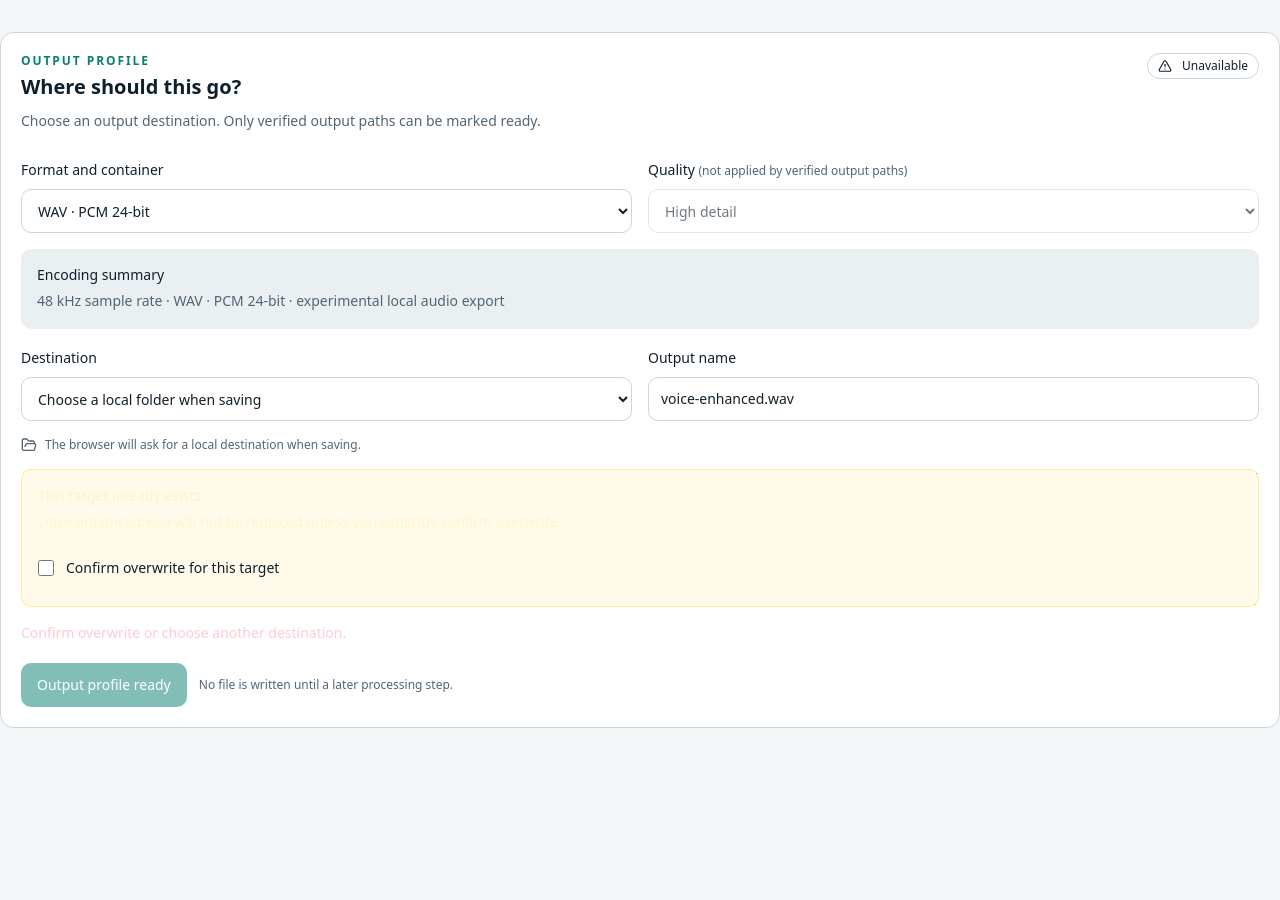
Test case: output profile panel › blocks an existing target until overwrite is explicitly confirmed
This screenshot has width=1280, height=900.
Expected: the message that starts with "This target already exists" shows "voice-enhanced.wav", [38,512,171,531]
Expected: the button "Output profile ready" is disabled, [21,663,187,707]
Click the checkbox labelled "Confirm overwrite for this target".
click(46, 568)  # box [38,560,54,576]
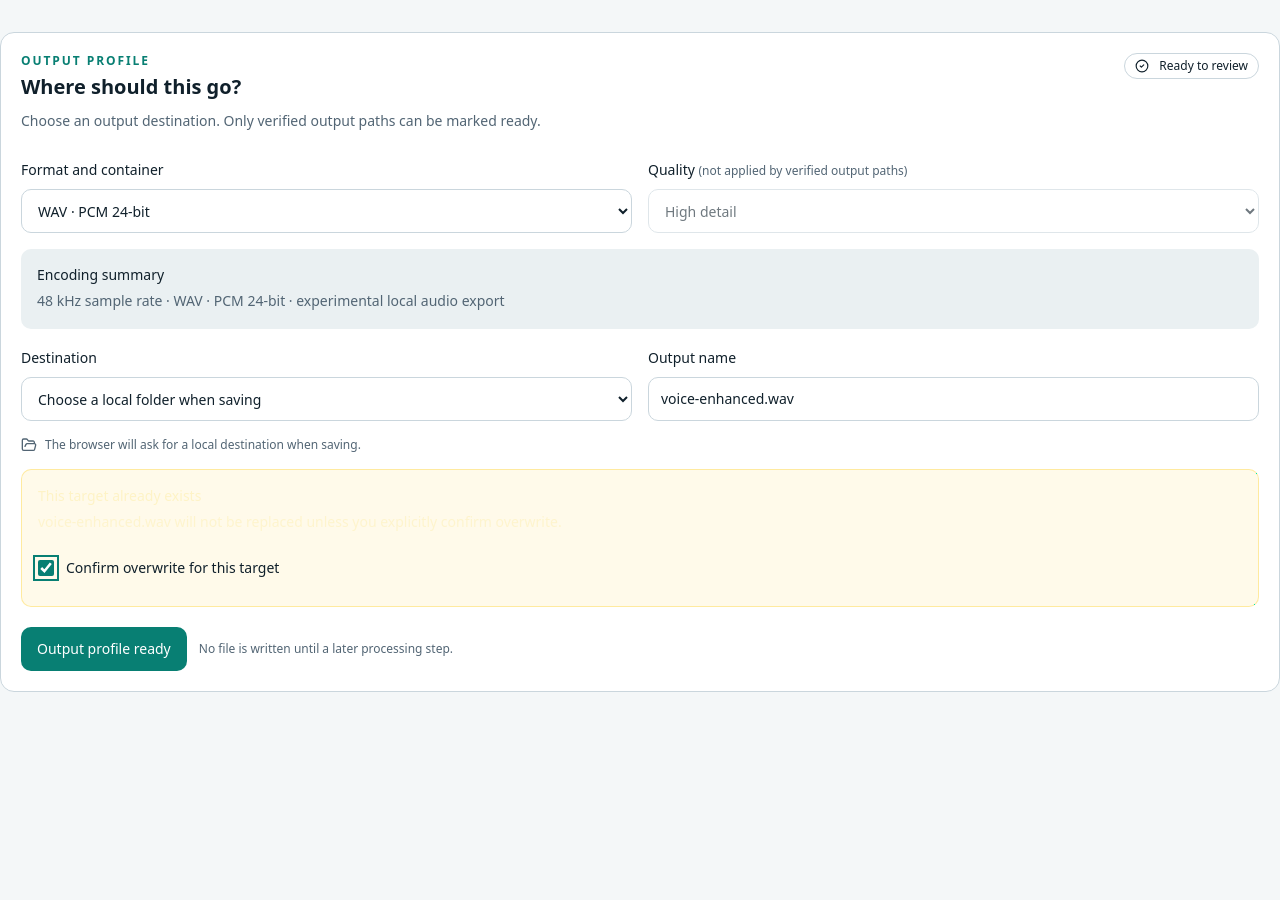
Now the button "Output profile ready" is enabled, box [21,627,187,671]
